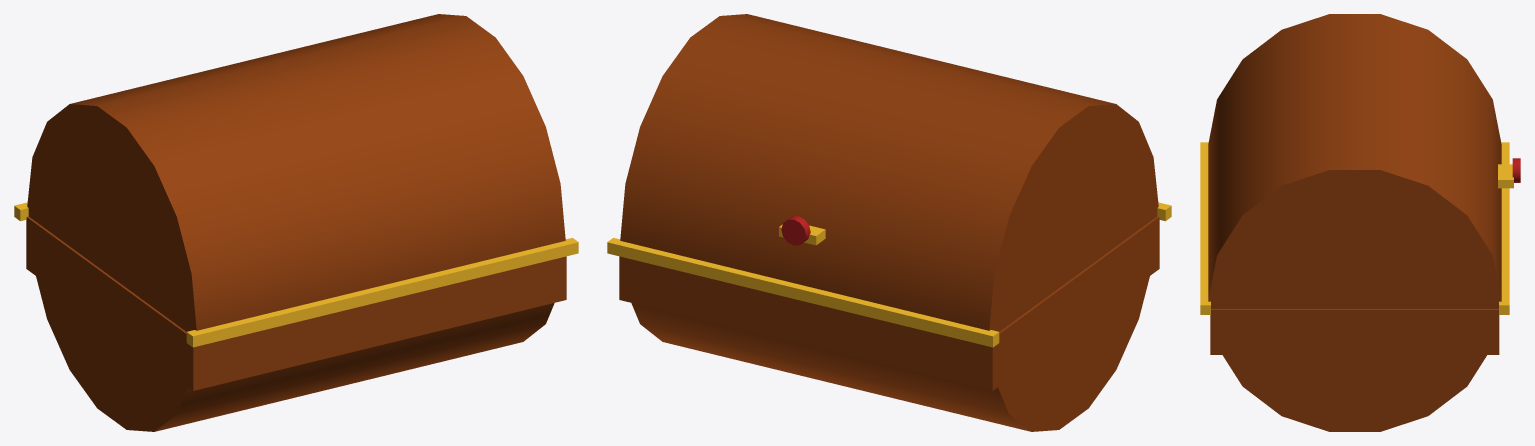
File: toy_castle_treasure_chest.glb
3 views of the same model, side by side, from view 1: azimuth 30°, elevation 25°; view 2: azimuth 150°, elevation 25°; view 3: azimuth 270°, elevation 25° (orthographic). The views are drawn at different scales.
Parts seen in each view (by area): view 1: solid_2, solid_1, solid_4; view 2: solid_2, solid_1, solid_3, solid_6; view 3: solid_2, solid_1, solid_4, solid_3, solid_5.
Boxes of the visible parts, x1,y1,x2,y2 form: solid_2: (27, 14, 565, 431); solid_1: (26, 216, 566, 390); solid_4: (186, 238, 578, 347); solid_2: (620, 14, 1158, 431); solid_1: (619, 216, 1159, 390); solid_3: (607, 238, 999, 347); solid_6: (781, 216, 810, 245); solid_2: (1208, 14, 1501, 431); solid_1: (1210, 309, 1499, 354); solid_4: (1200, 142, 1210, 314); solid_3: (1499, 142, 1509, 314); solid_5: (1498, 164, 1513, 188).
Size of the model in its own units: 4.34 by 3.25 by 3.61.
